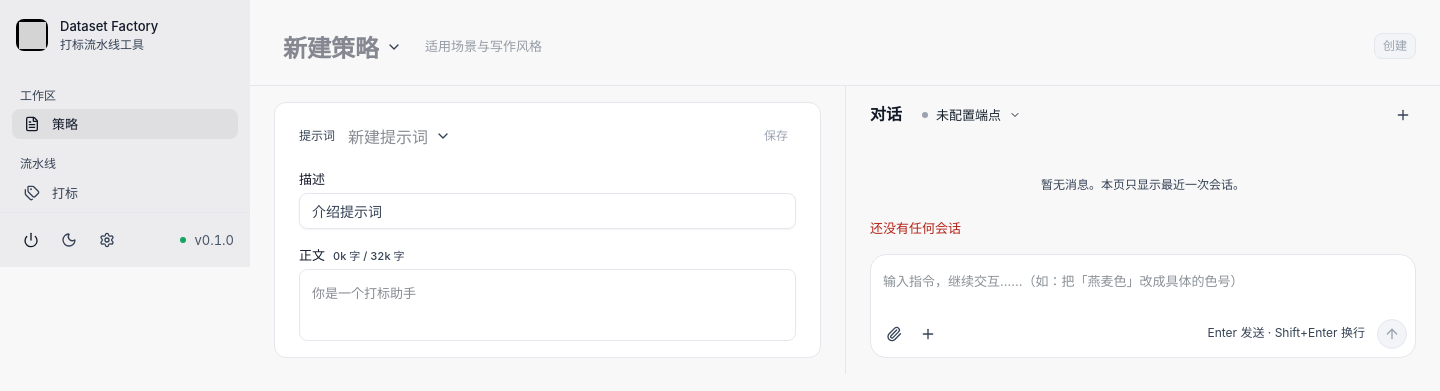
it: App 外壳 › 设置侧栏切换子页并返回进入前的工作页
This screenshot has width=1440, height=391.
Click the button named "设置".
click(107, 240)  # box [92,225,122,255]
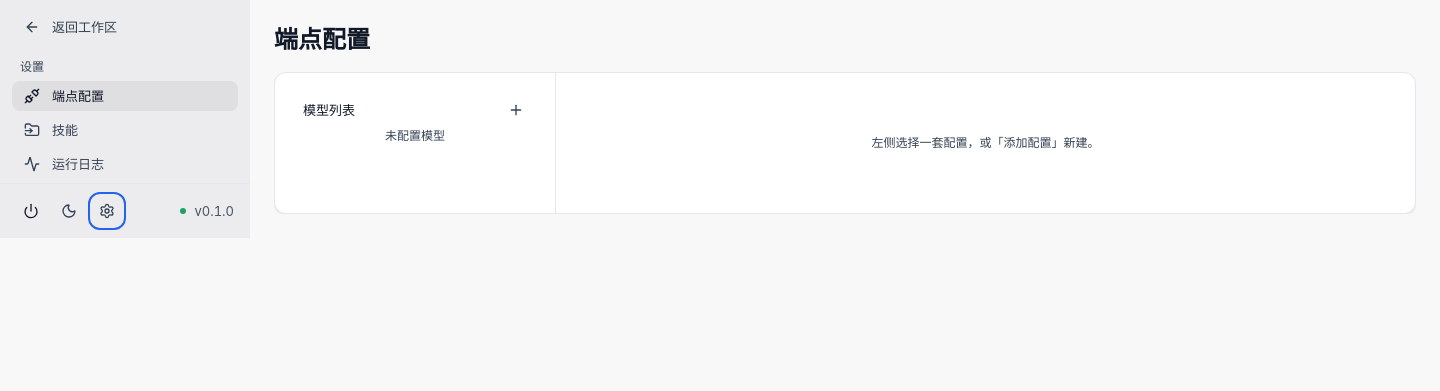
Result: the heading "端点配置" is shown at [274,25,370,54]
Click the button "技能".
click(125, 130)  # box [12,115,238,145]
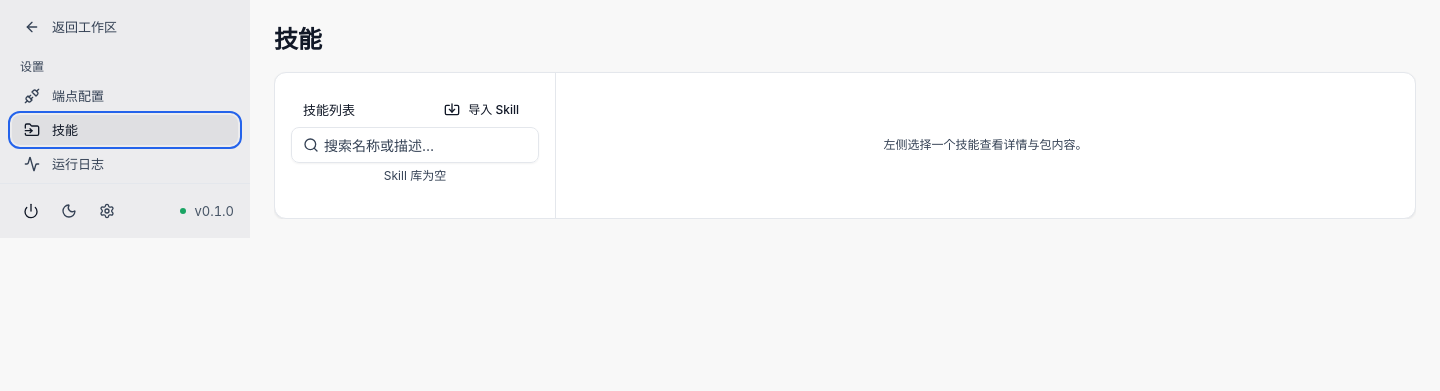
Expected: the number of navigation bars is 1, [0,0,250,183]
Result: the heading "技能" is shown at [274,25,322,54]
Click the button "返回工作区".
click(125, 27)  # box [12,12,238,42]
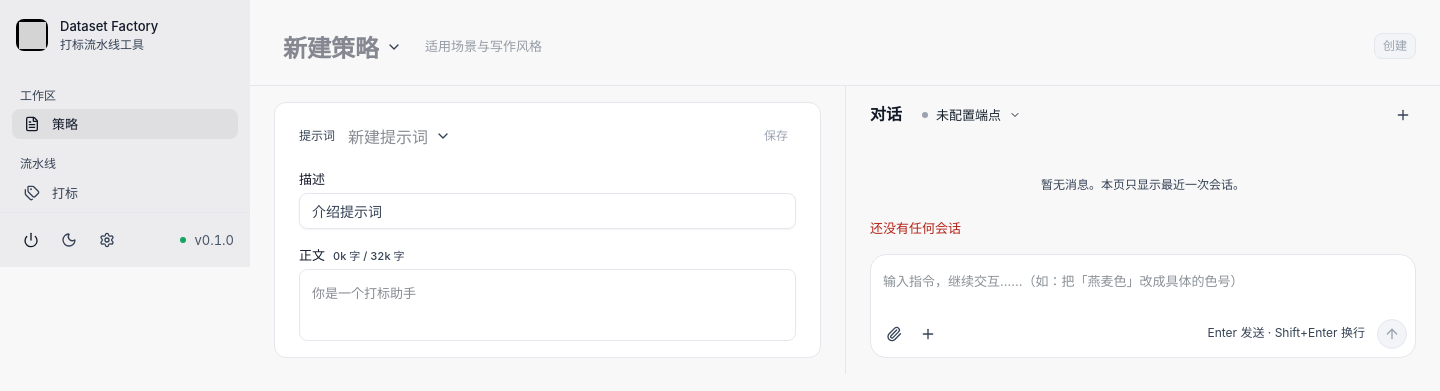
Click the button named "切换提示词".
click(443, 136)  # box [431,124,455,148]
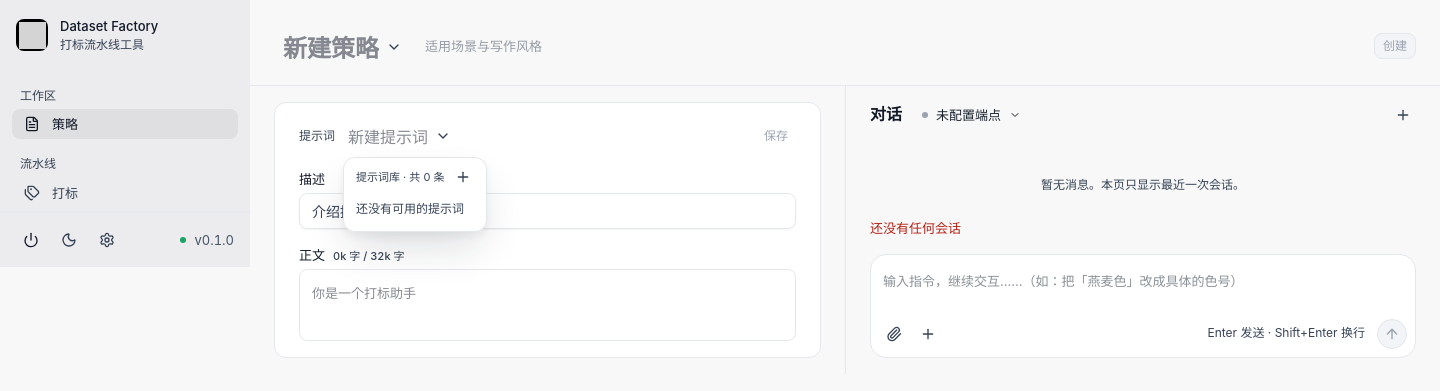
Result: the button named "新建提示词" is shown at [452,166,474,188]
